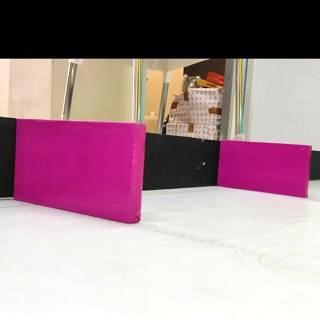xparking: (18, 124, 140, 218), (220, 146, 311, 195)
